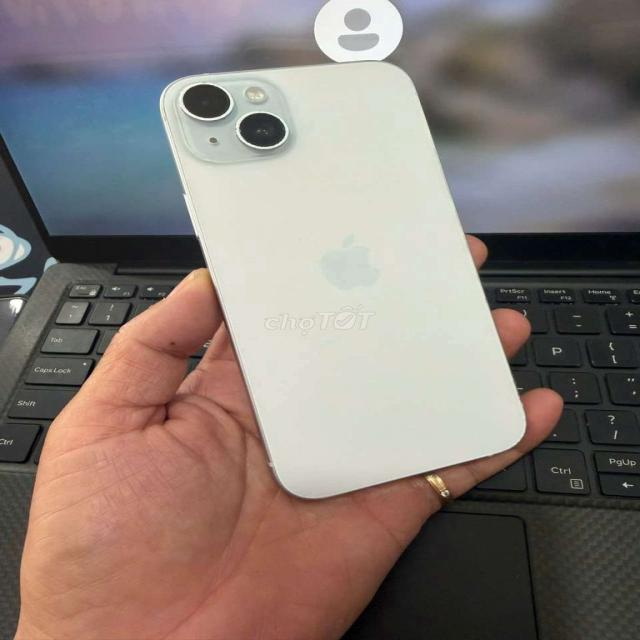gen_15: (143, 66, 540, 497)
